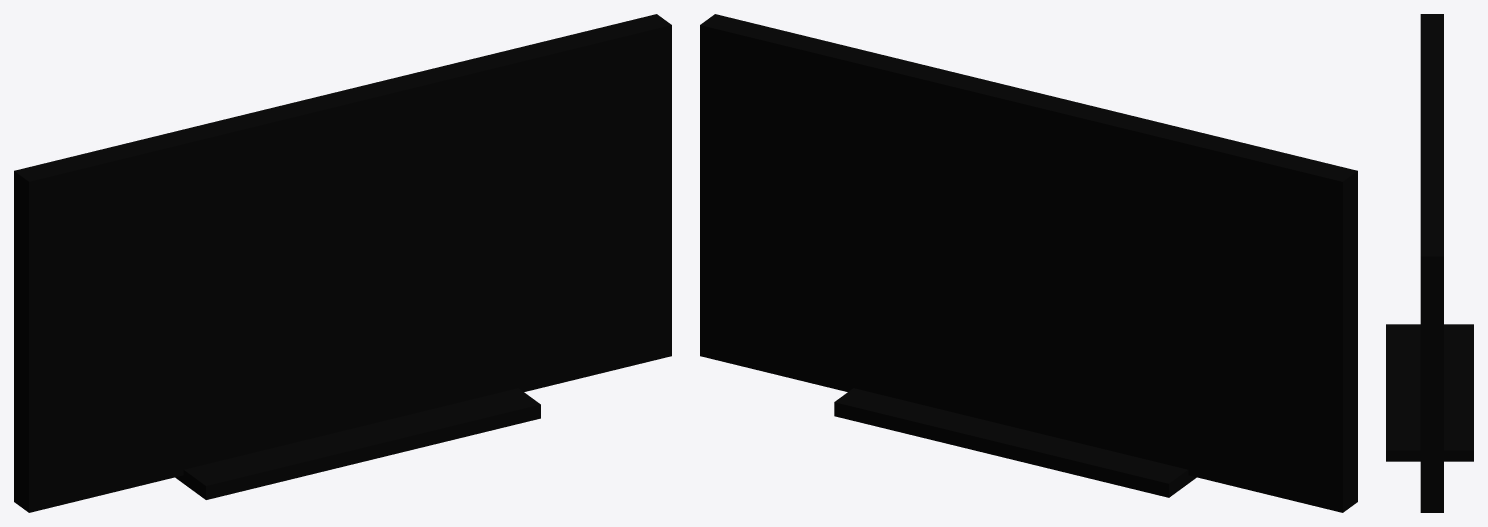
The model's file is FlatScreenTv.fbx.
3 views of the same model, side by side, from view 1: azimuth 30°, elevation 25°; view 2: azimuth 150°, elevation 25°; view 3: azimuth 270°, elevation 25° (orthographic). The views are drawn at different scales.
Parts seen in each view (by area): view 1: node_id5; view 2: node_id5; view 3: node_id5.
Boxes of the visible parts, box(x1,y1,x2,y2) form: node_id5: box(14, 14, 671, 512); node_id5: box(700, 14, 1357, 512); node_id5: box(1386, 14, 1473, 512).
Bounding box in the file's own units: 0.512 × 0.2585 × 0.0783.
1 material, 1 textured.
